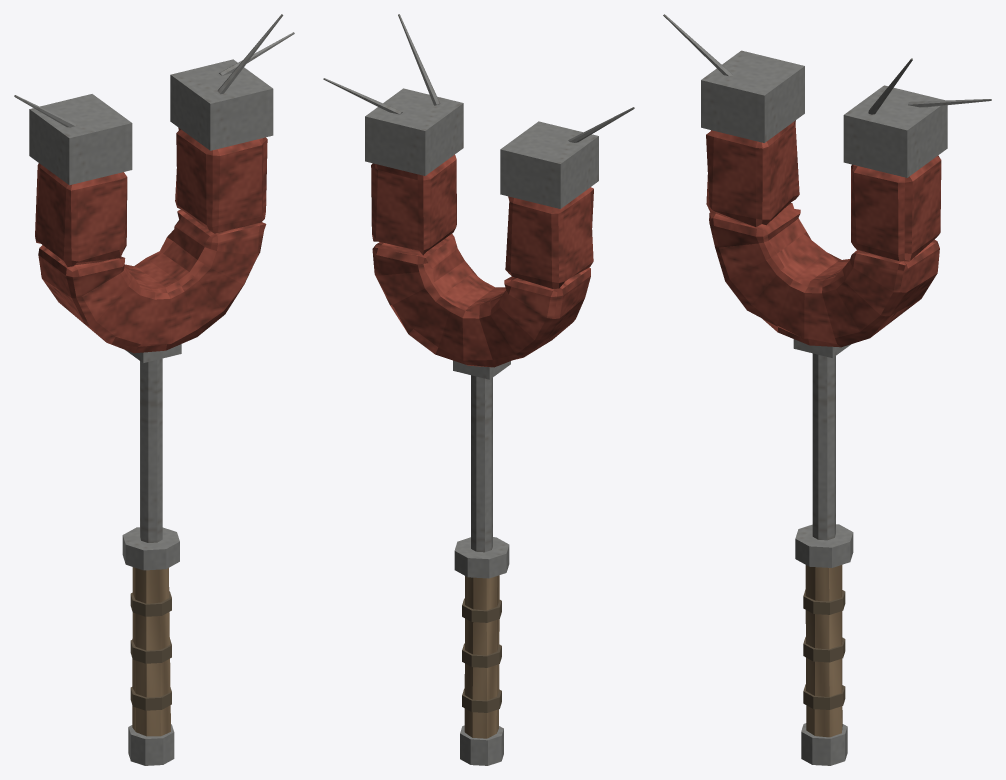
File: magnet_wand.glb
The picture shows the model from 3 angles, left to right: view 1: azimuth 30°, elevation 25°; view 2: azimuth 150°, elevation 25°; view 3: azimuth 330°, elevation 25°; orthographic projection. The views are drawn at different scales.
Visible parts, largest first — view 1: MagnetWand; view 2: MagnetWand; view 3: MagnetWand.
Part boxes in pixels (x1,y1,x2,y2): MagnetWand: (14, 14, 294, 765); MagnetWand: (323, 14, 634, 765); MagnetWand: (663, 14, 991, 765).
Bounding box in the file's own units: 0.4713 × 1.09 × 0.1161.
4 materials, 3 textured.
